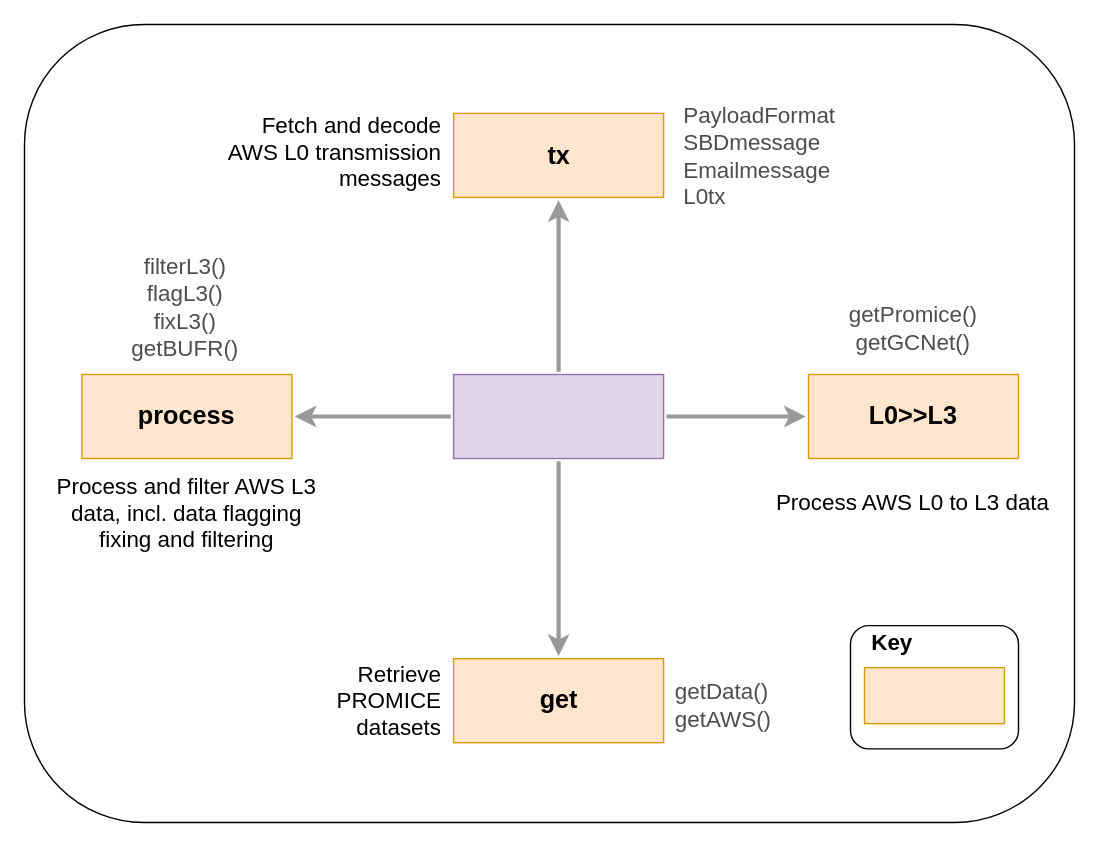
This 1099x847 diagram has some shape labels left out. Each missing label, with the centre of its shape:
"Module" belongs at (x=933, y=695).
"pypromice" belongs at (x=558, y=415).
